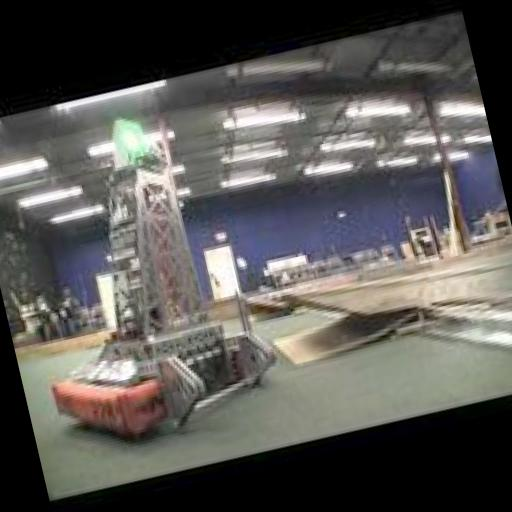robot: (0, 92, 287, 458)
